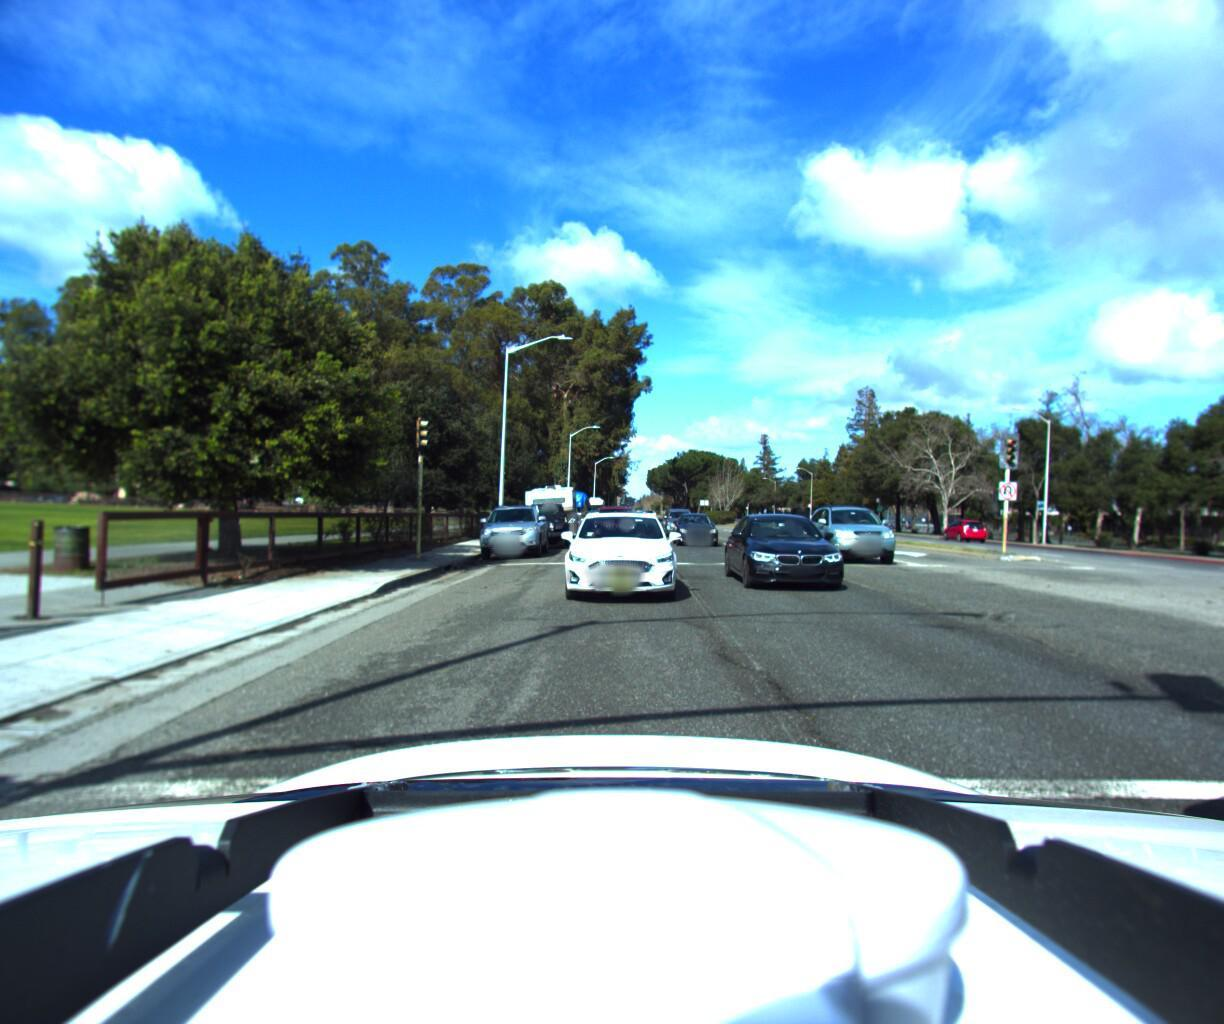car: (720, 505, 868, 598), (550, 507, 679, 606), (807, 503, 918, 570), (469, 503, 553, 560), (511, 504, 573, 550), (588, 501, 636, 542), (670, 510, 721, 545), (930, 514, 984, 545), (656, 504, 700, 535)
other_vehicle: (514, 477, 585, 544), (549, 487, 592, 532), (577, 493, 605, 522)
